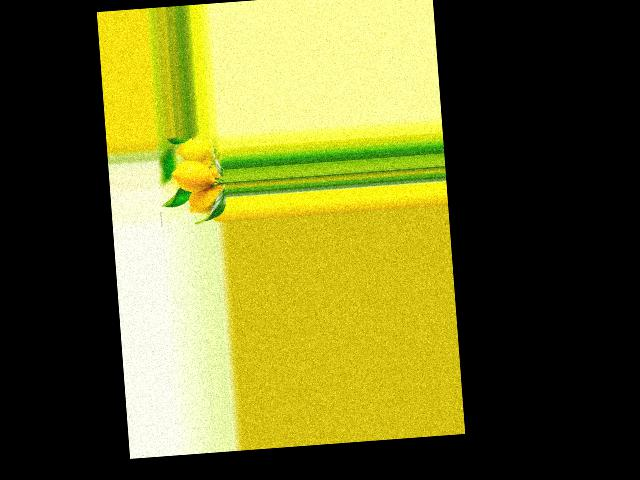lemon: (173, 136, 216, 163)
